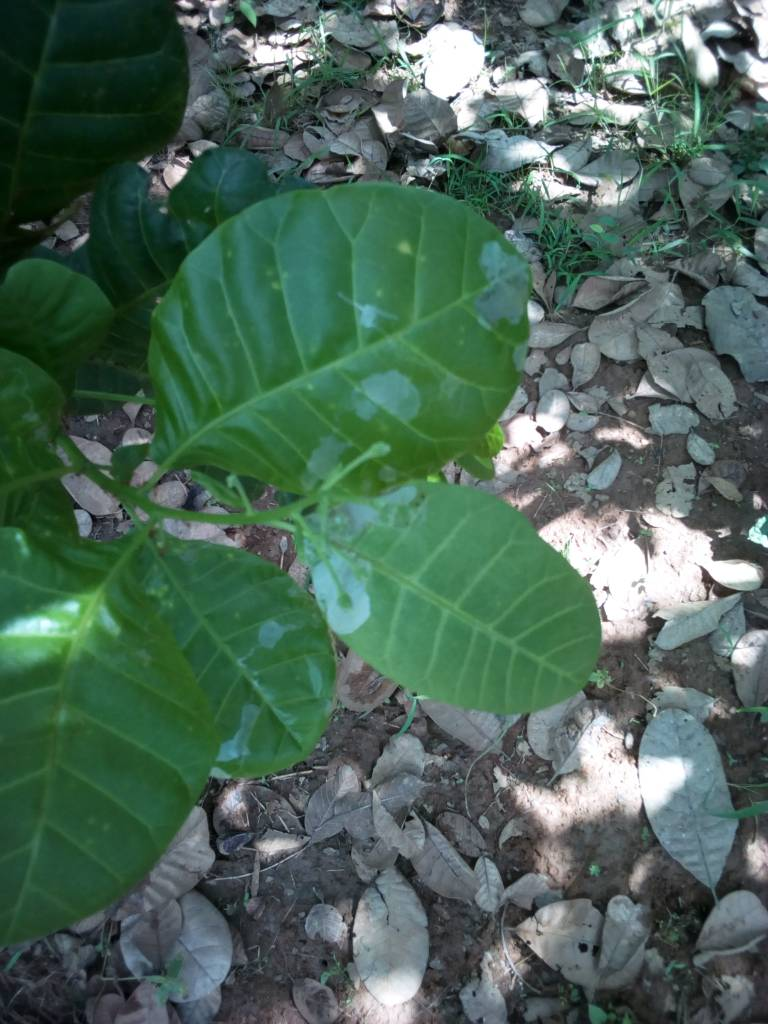Virose: (197, 200, 527, 492), (296, 499, 596, 708), (141, 532, 330, 772)
